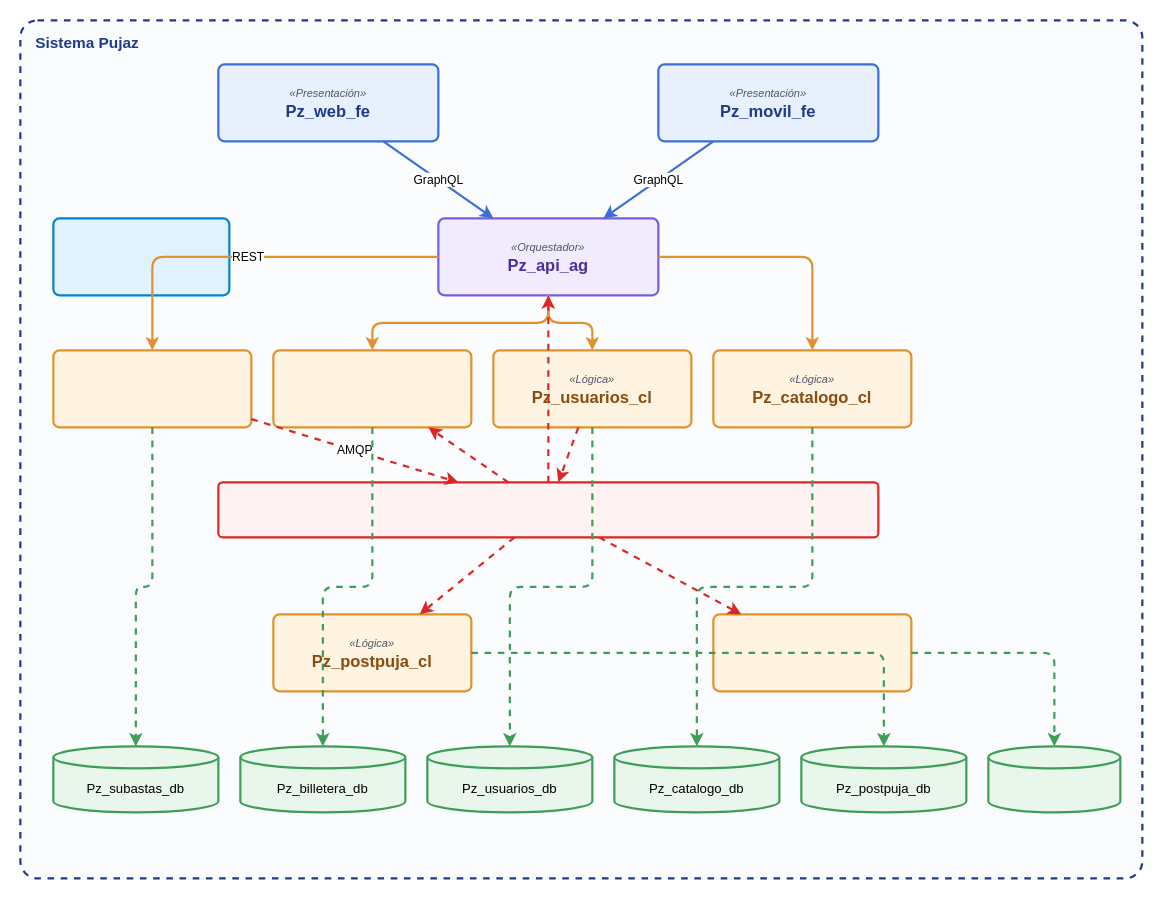
This 1162x898 diagram has some shape labels left out. The centre of each missing label's shape, as x and y in pixels:
"Pz_notif_db" goes at (x=1054, y=779).
"«Broker» Pz_eventos_mq" goes at (x=548, y=509).
"«Lógica» Pz_billetera_cl" goes at (x=372, y=388).
"«Lógica» Pz_cierre_cl" goes at (x=141, y=256).
"«Lógica» Pz_notif_cl" goes at (x=812, y=652).
"«Lógica» Pz_subastas_cl" goes at (x=152, y=388).
